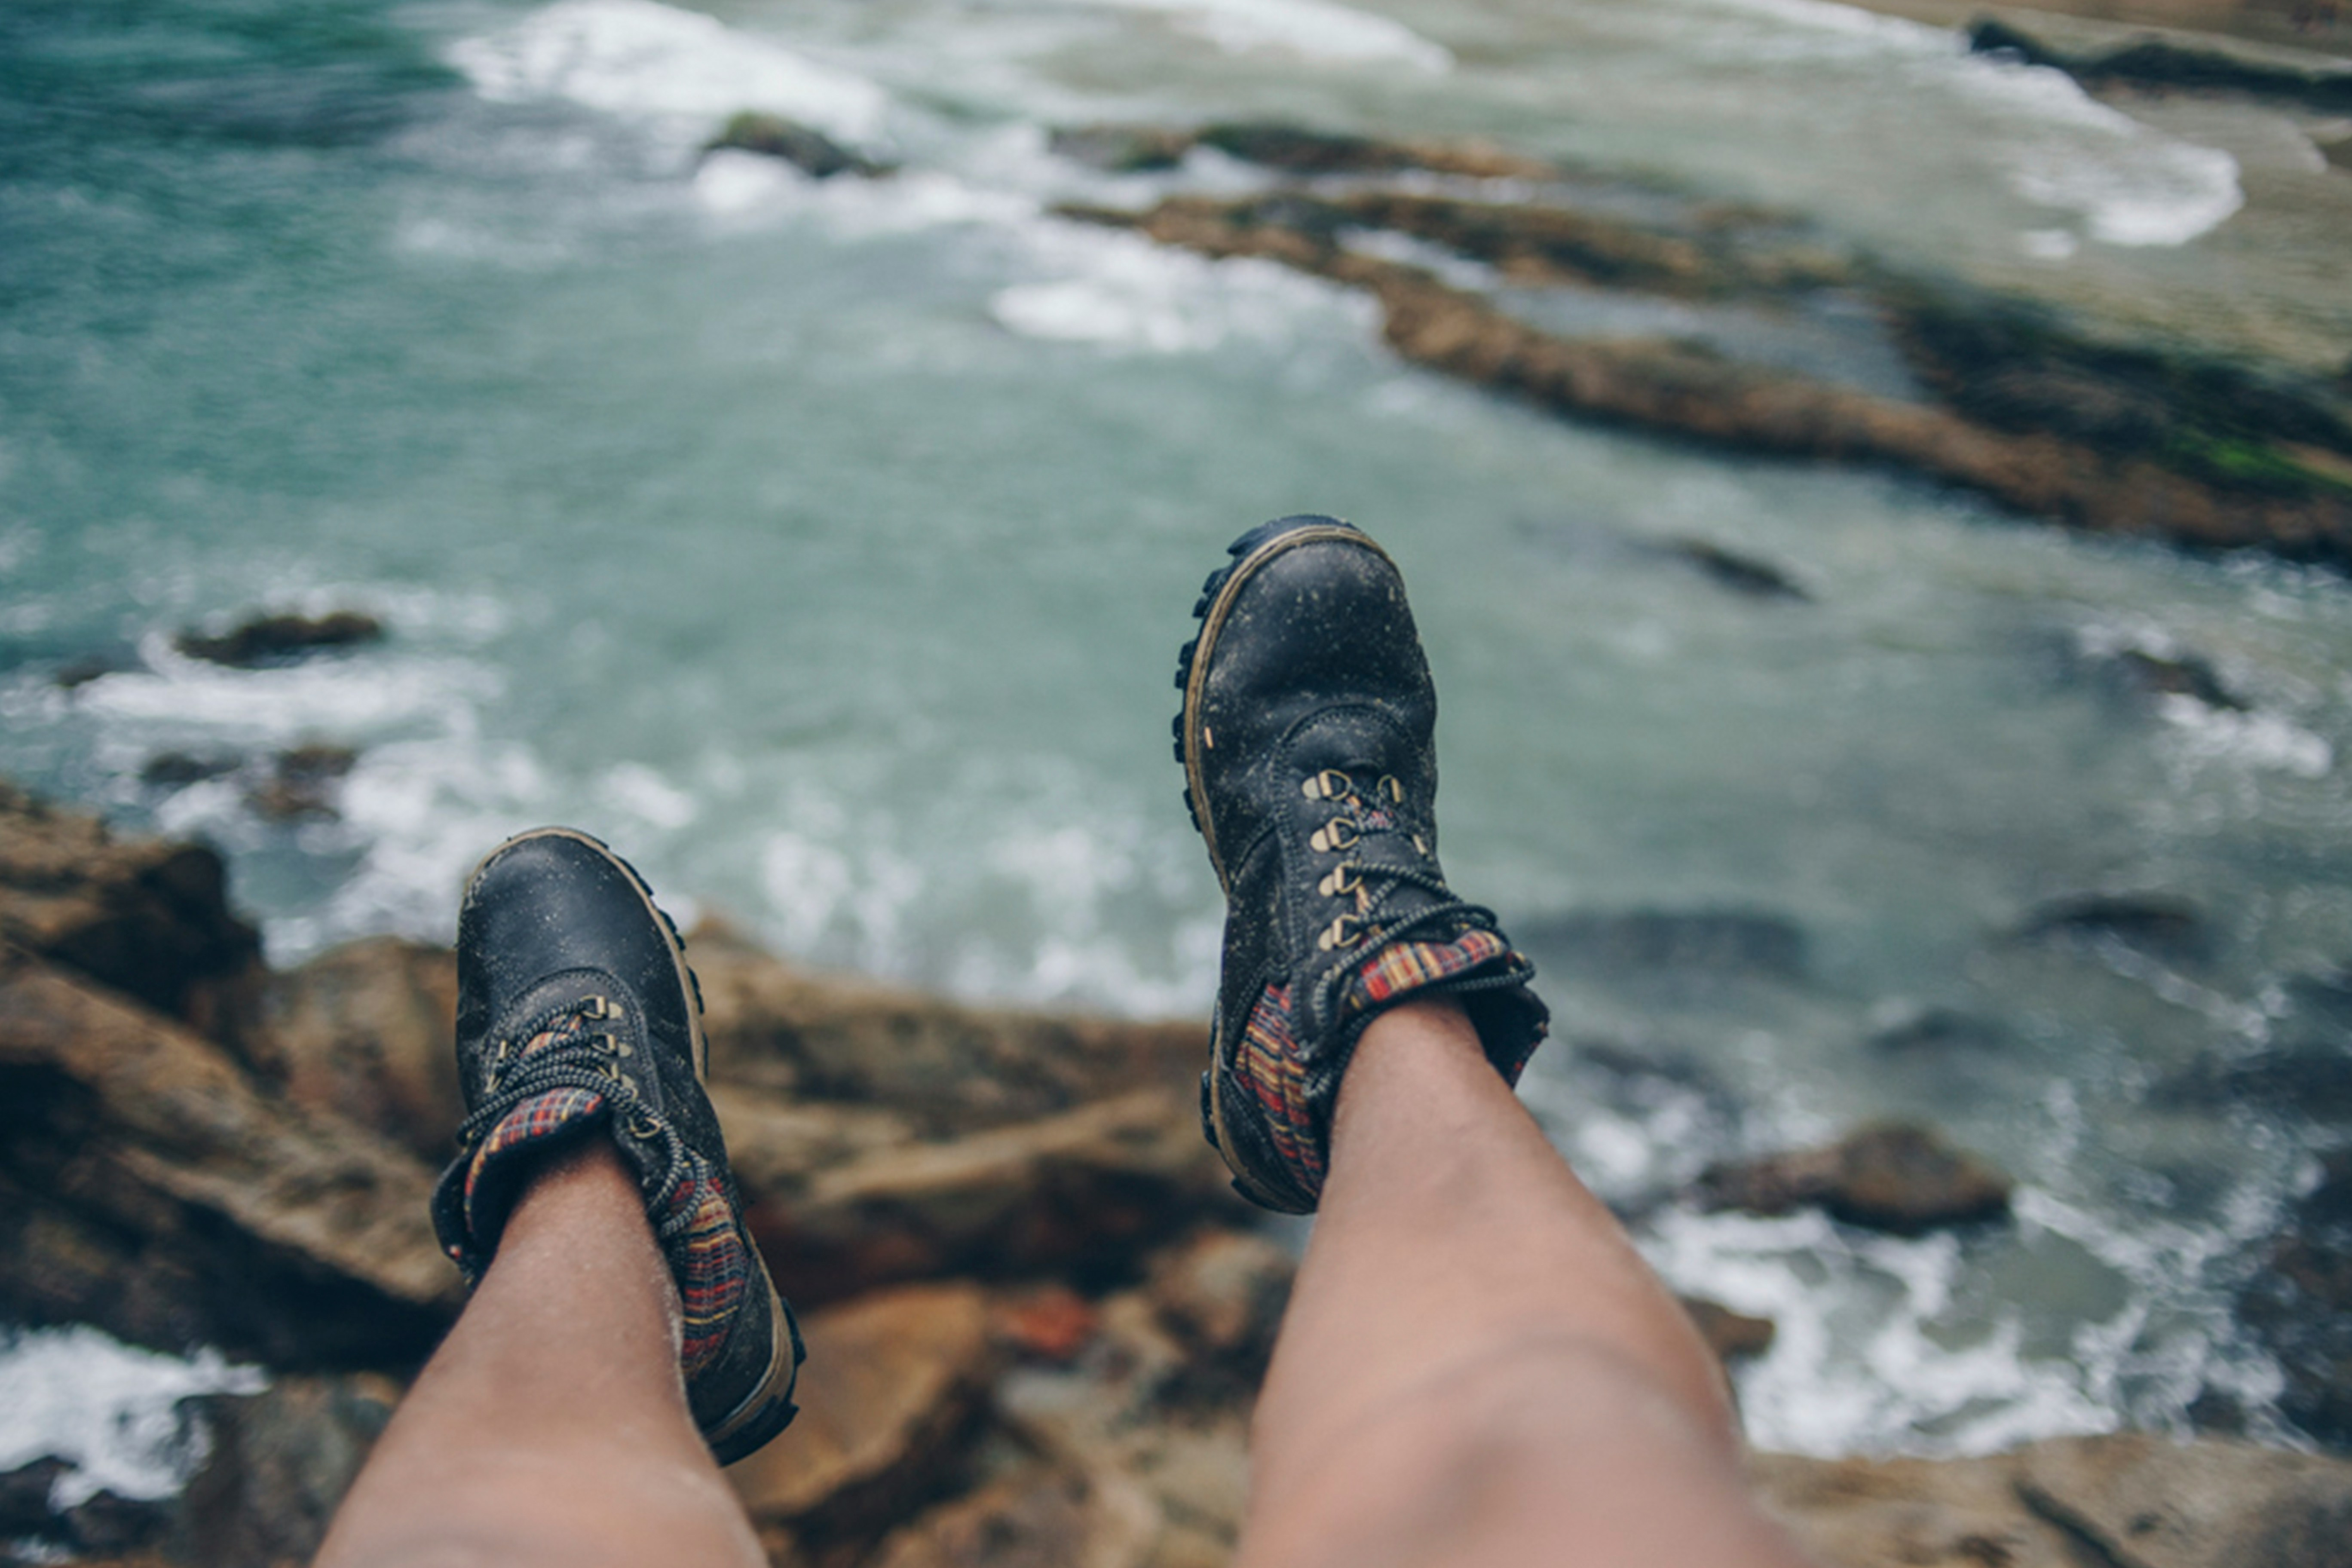Footwear: (1165, 476, 1580, 1211), (387, 812, 814, 1438)
